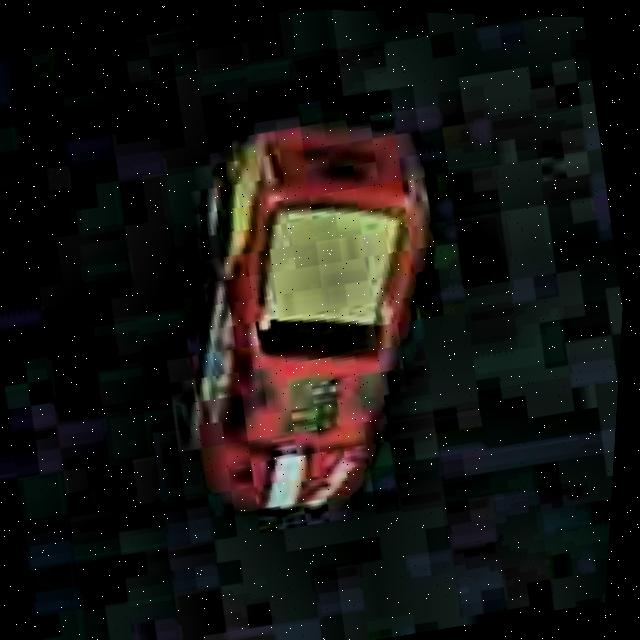car: (129, 95, 496, 538)
